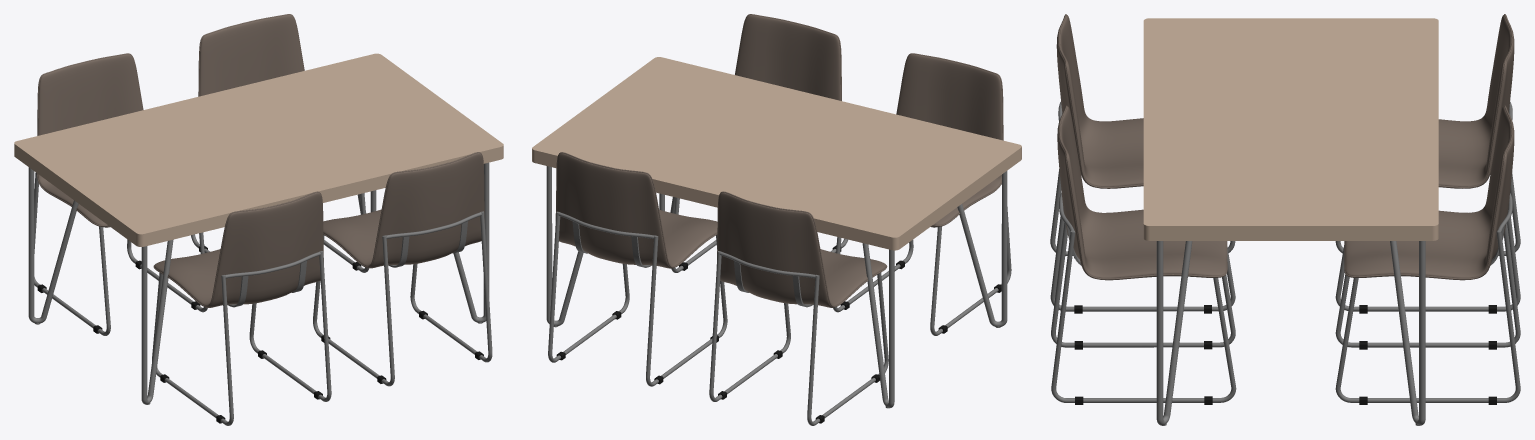
Rendered from 561_ダイニングテーブルセット4人掛け.glb.
3 views of the same model, side by side, from view 1: azimuth 30°, elevation 25°; view 2: azimuth 150°, elevation 25°; view 3: azimuth 270°, elevation 25° (orthographic). The views are drawn at different scales.
Visible parts, largest first — view 1: Body, chair3, chair4, chair1, chair2; view 2: Body, chair1, chair2, chair3, chair4; view 3: Body, chair4, chair2, chair3, chair1.
Boxes of the visible parts, box(x1,y1,x2,y2) form: Body: box(14, 53, 503, 404); chair3: box(152, 191, 331, 425); chair4: box(313, 152, 492, 386); chair1: box(34, 53, 207, 335); chair2: box(191, 14, 368, 272); Body: box(532, 57, 1021, 408); chair1: box(709, 191, 888, 425); chair2: box(548, 152, 727, 386); chair3: box(833, 53, 1011, 335); chair4: box(671, 14, 847, 272); Body: box(1143, 18, 1438, 425); chair4: box(1051, 105, 1236, 404); chair2: box(1335, 105, 1520, 404); chair3: box(1050, 14, 1235, 313); chair1: box(1335, 14, 1520, 313).
Bounding box in the file's own units: 1.5 × 0.8286 × 1.43.
